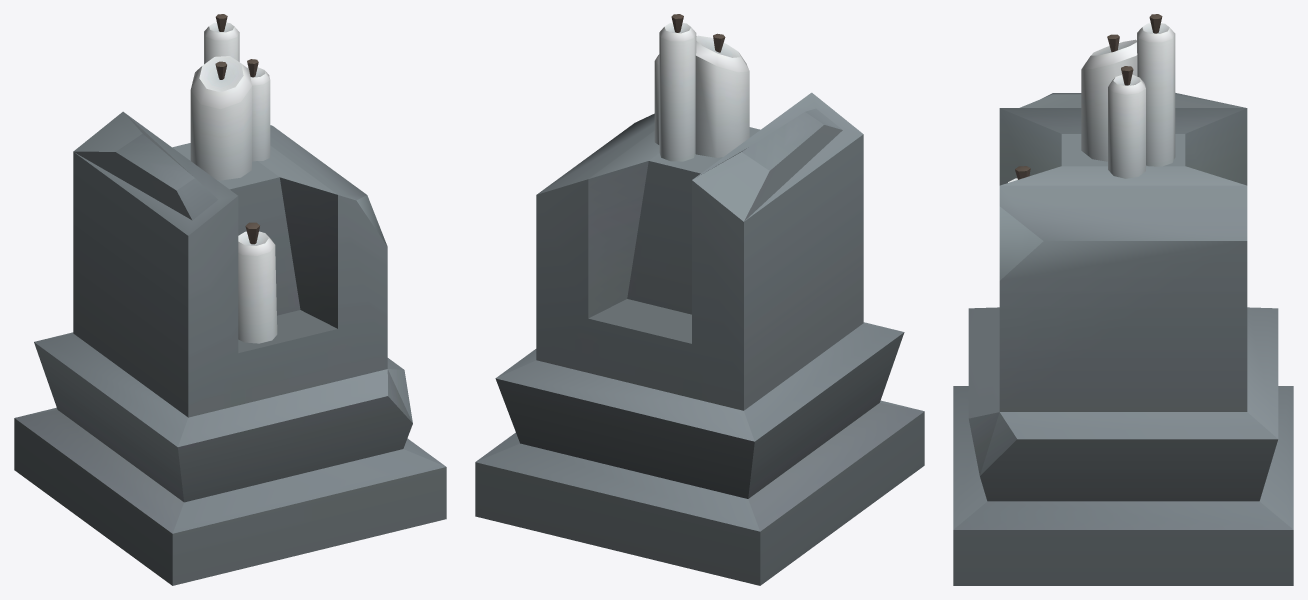
File: shrine-candles.glb
3 renders of one model, left to right at view 1: azimuth 30°, elevation 25°; view 2: azimuth 150°, elevation 25°; view 3: azimuth 270°, elevation 25°, orthographic. The views are drawn at different scales.
Visible parts, largest first — view 1: shrine_candles; view 2: shrine_candles; view 3: shrine_candles.
Boxes of the visible parts, x1,y1,x2,y2 form: shrine_candles: (14, 14, 446, 585); shrine_candles: (475, 14, 924, 585); shrine_candles: (953, 14, 1293, 585).
Size of the model in its own units: 1.1 by 1.79 by 1.1.
Materials: 1 (1 with a texture image).
